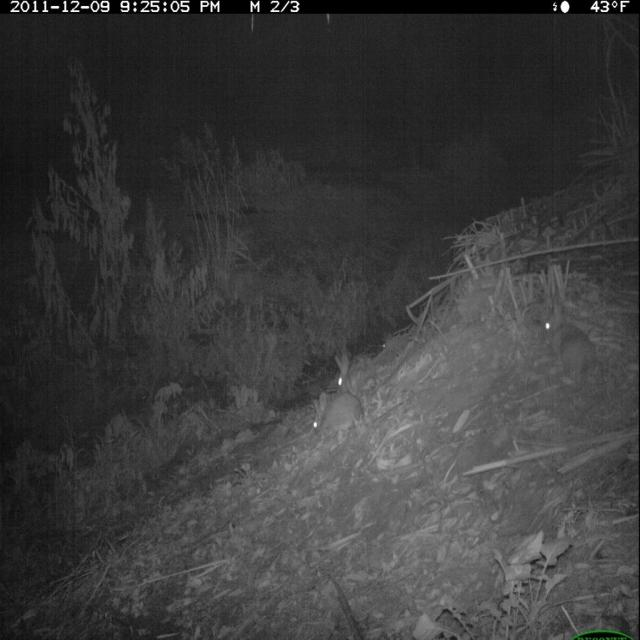rabbit: (534, 293, 607, 393), (306, 388, 367, 444), (331, 347, 386, 394)
